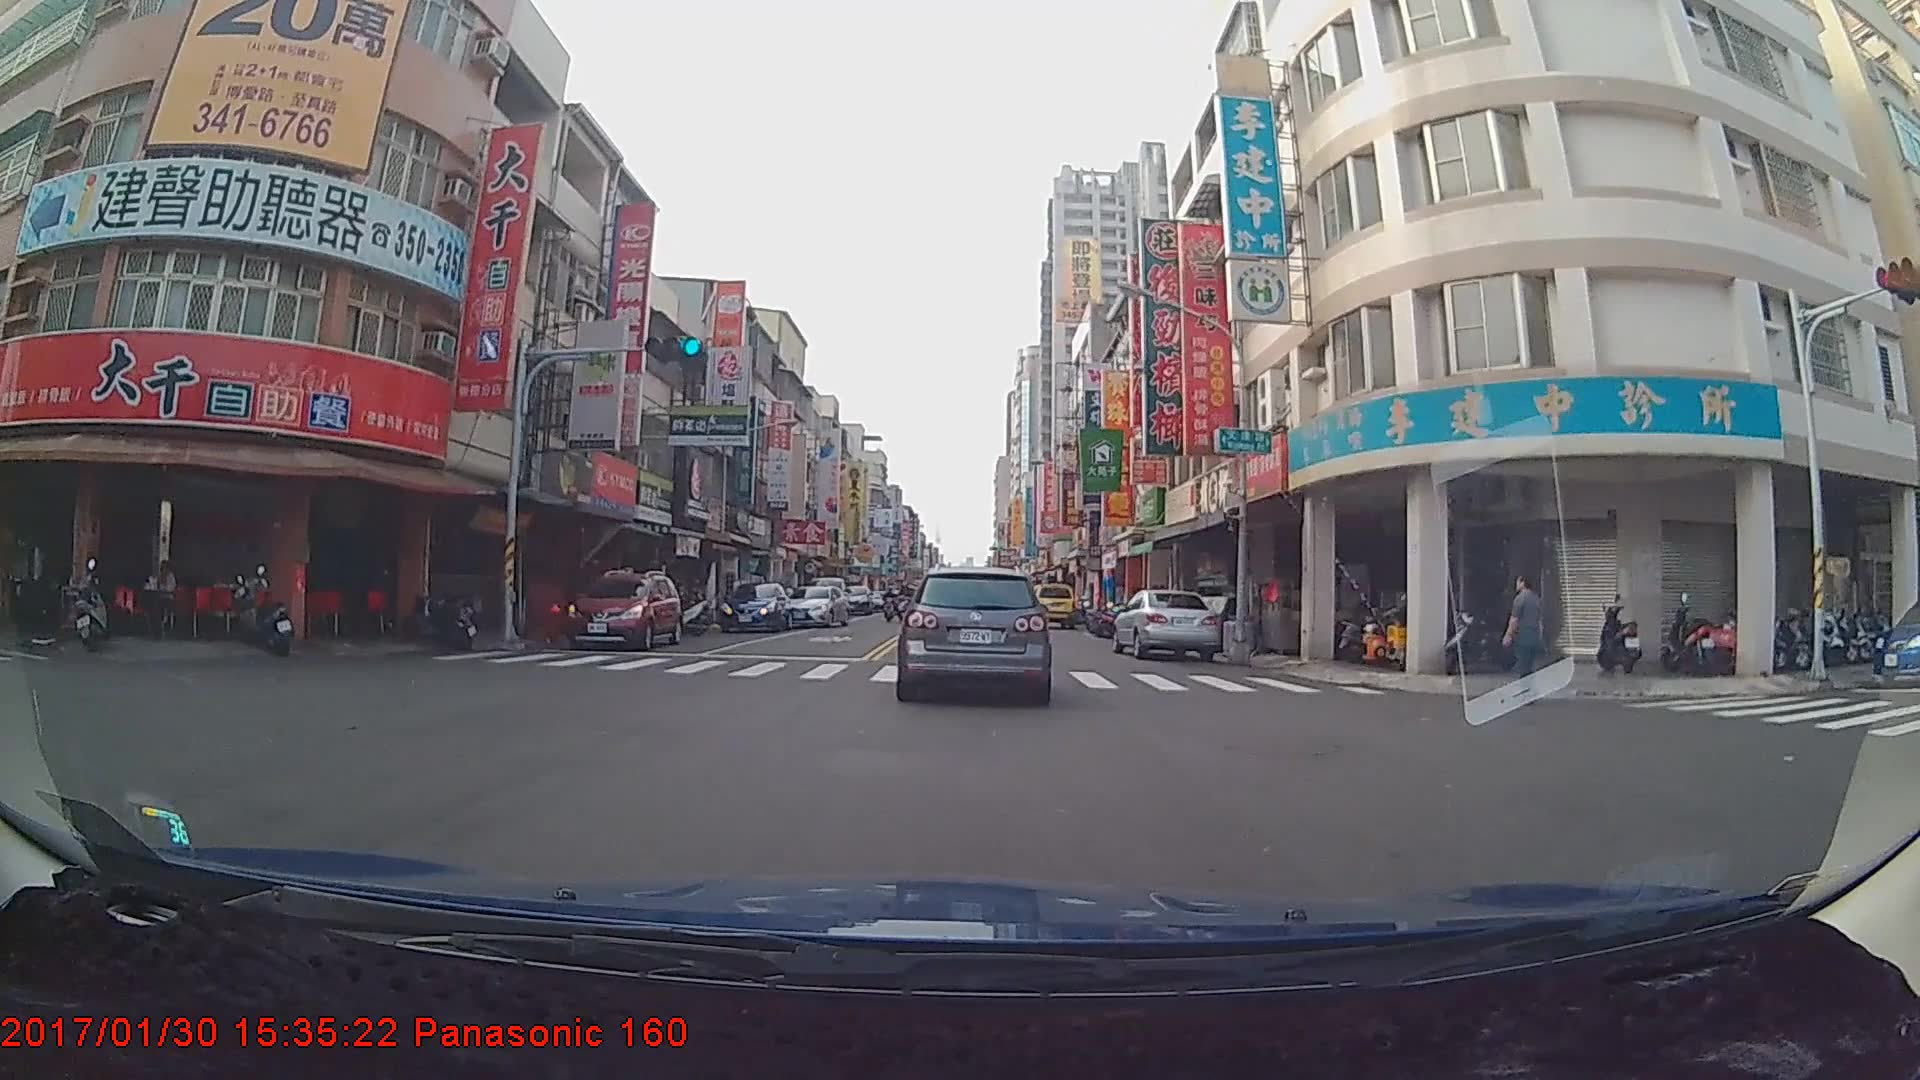pedestrian: (1506, 573, 1553, 713)
vehicle: (900, 565, 1049, 702), (566, 571, 681, 651), (1114, 588, 1225, 663), (717, 584, 792, 635), (784, 583, 848, 630), (1029, 582, 1076, 632)
